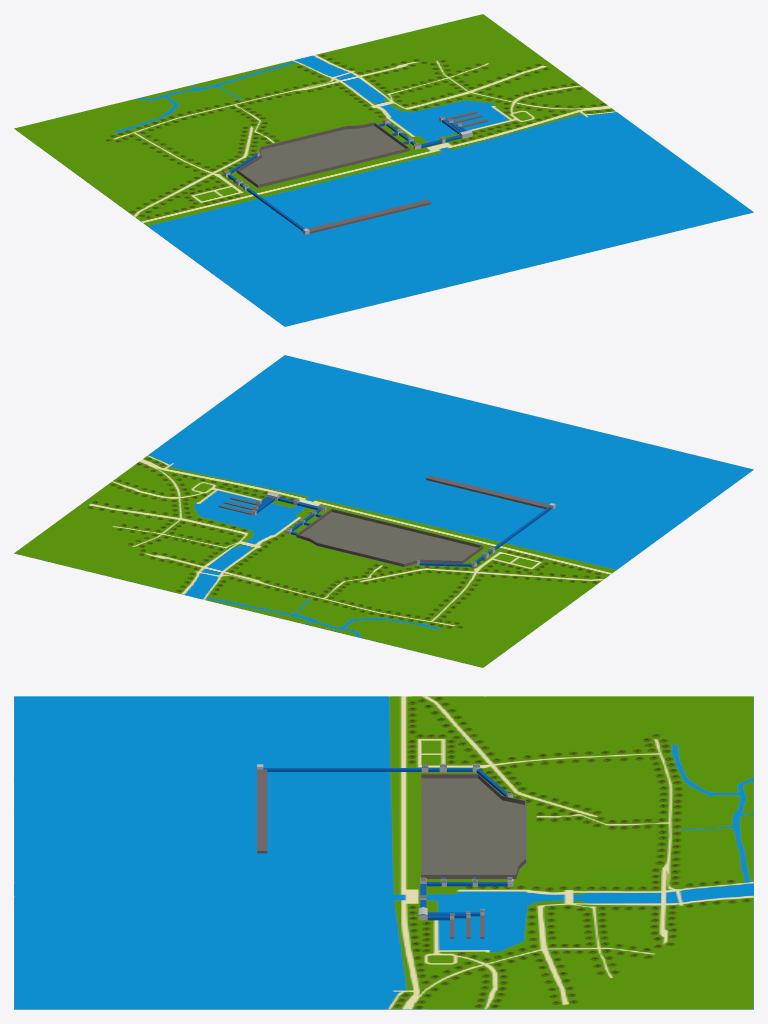
The model's file is all.fbx.
3 views of the same model, one above another, from view 1: azimuth 30°, elevation 25°; view 2: azimuth 150°, elevation 25°; view 3: azimuth 270°, elevation 25° (orthographic). The views are drawn at different scales.
Visible parts, largest first — view 1: ditu, fangzi; view 2: ditu, fangzi; view 3: ditu, fangzi.
Part boxes in pixels (x1,y1,x2,y2): ditu: [14, 14, 753, 326]; fangzi: [223, 111, 488, 234]; ditu: [14, 355, 753, 667]; fangzi: [218, 475, 555, 567]; ditu: [14, 696, 753, 1009]; fangzi: [257, 764, 525, 938].
Size of the model in its own units: 5000 by 51 by 5000.
6 materials, 1 textured.
